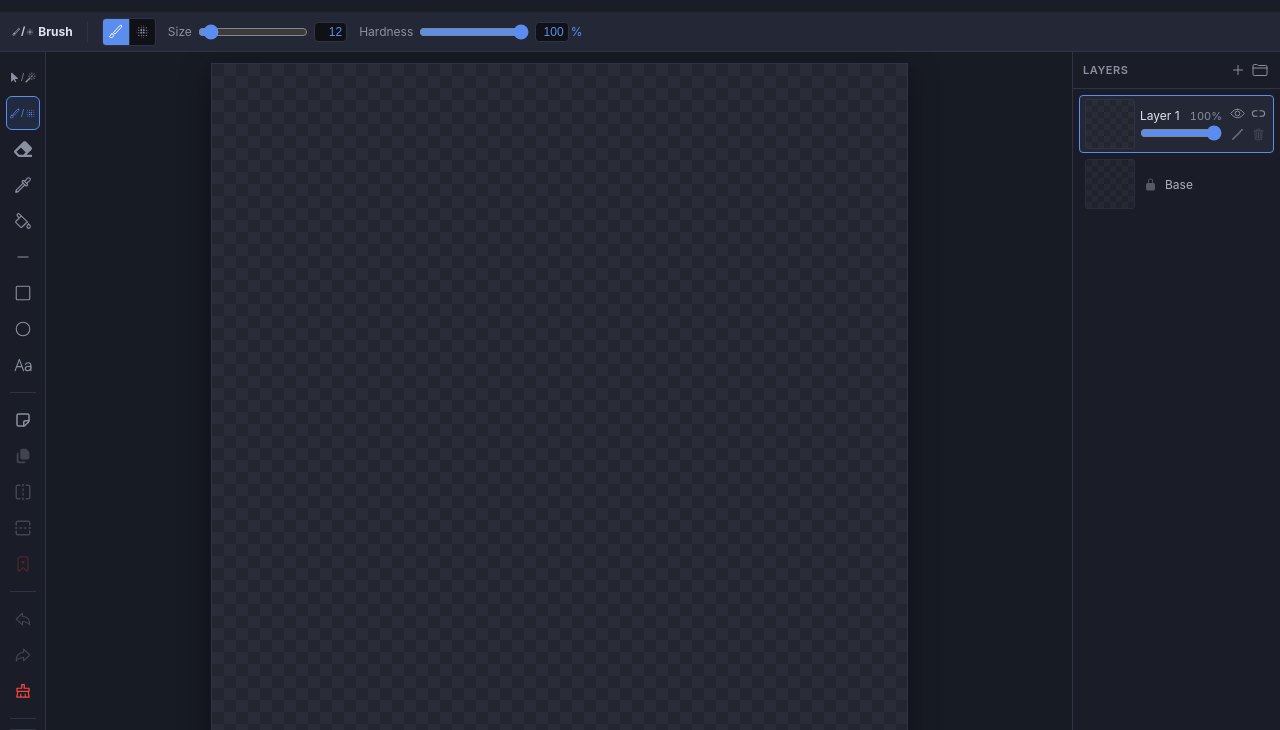
Test: brush size shortcuts + Shift-click straight lines › [ / ] leave the size alone for a tool without a brush size
Expected: the slider labelled "Size" holds "12", top-left (198, 24), bottom-right (308, 40)
Records / shapes have no brush size — the keys must be inert.
Click the button named "Rect": (22, 293) top-left (6, 276), bottom-right (40, 310)
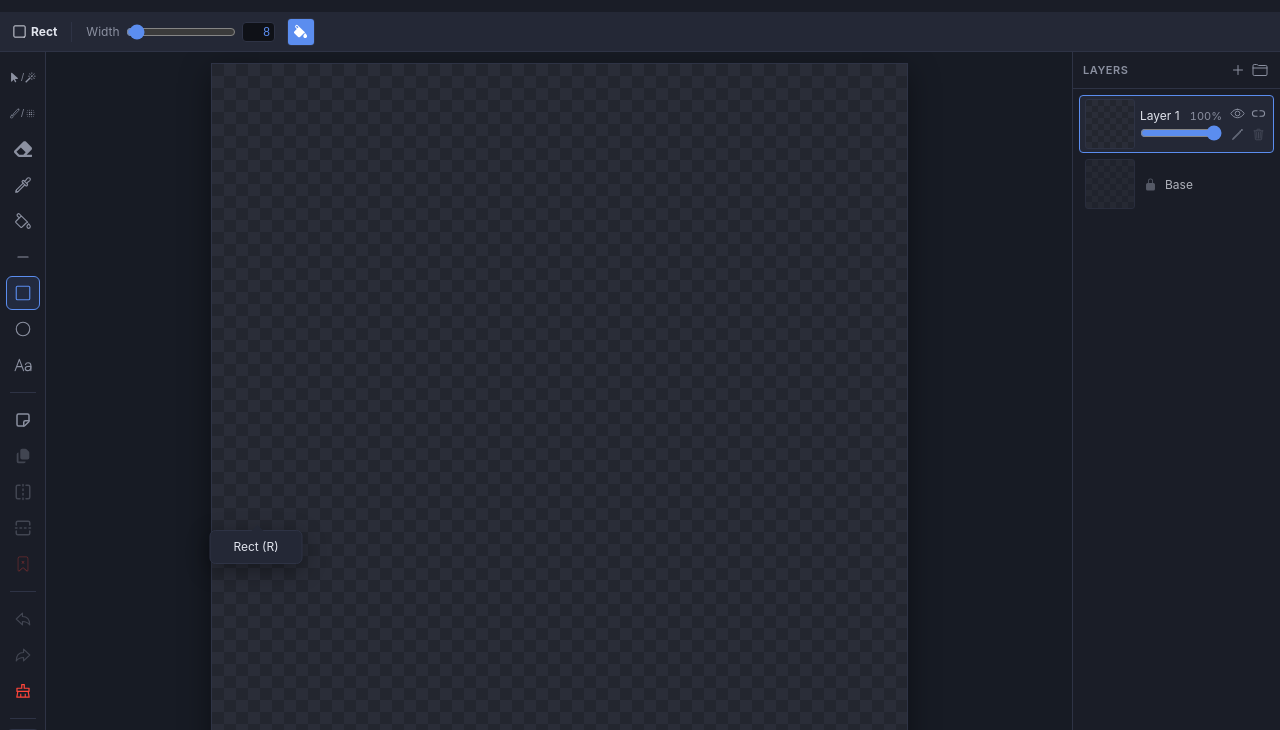
Press ]
Press ]
Press [
Click the button named "Brush": (22, 113) top-left (6, 96), bottom-right (40, 130)
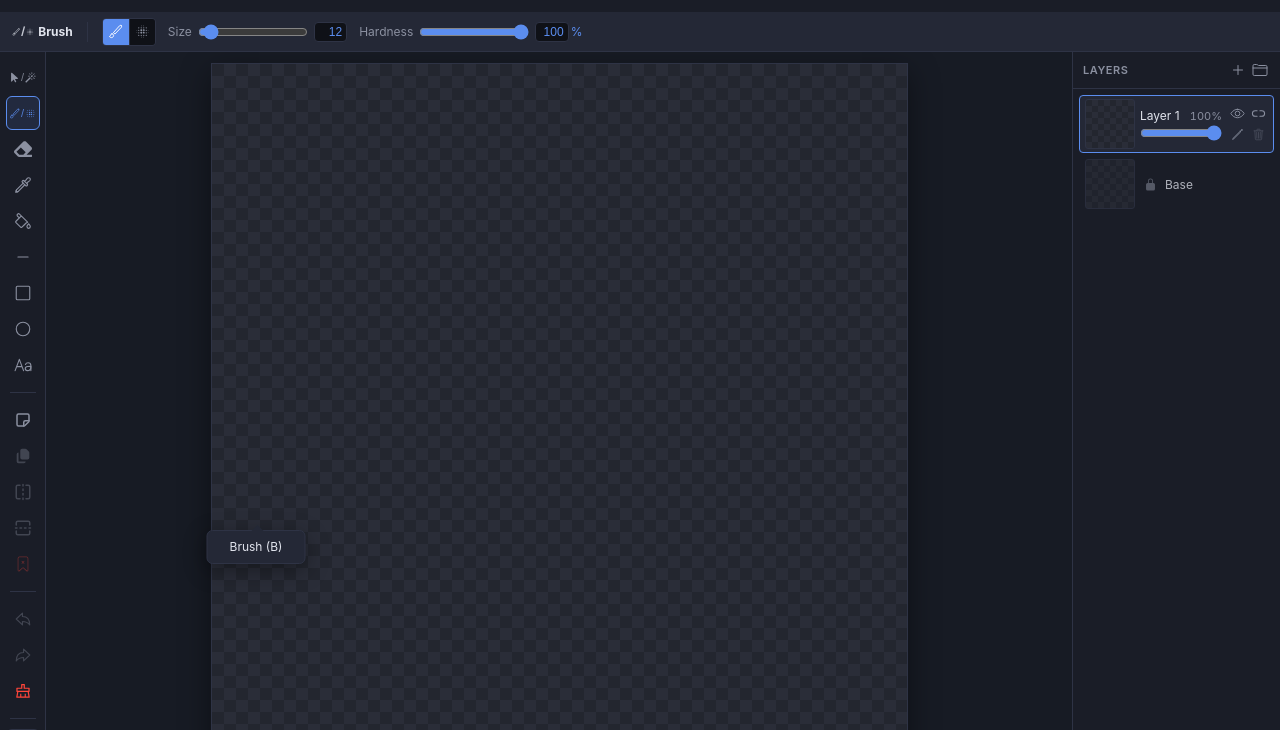
Now the slider labelled "Size" holds "12", box top-left (198, 24), bottom-right (308, 40)
